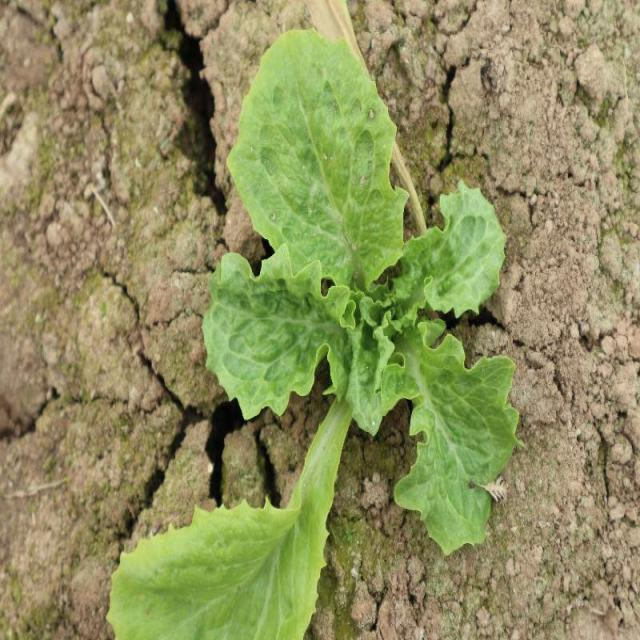crop: (105, 25, 519, 640)
